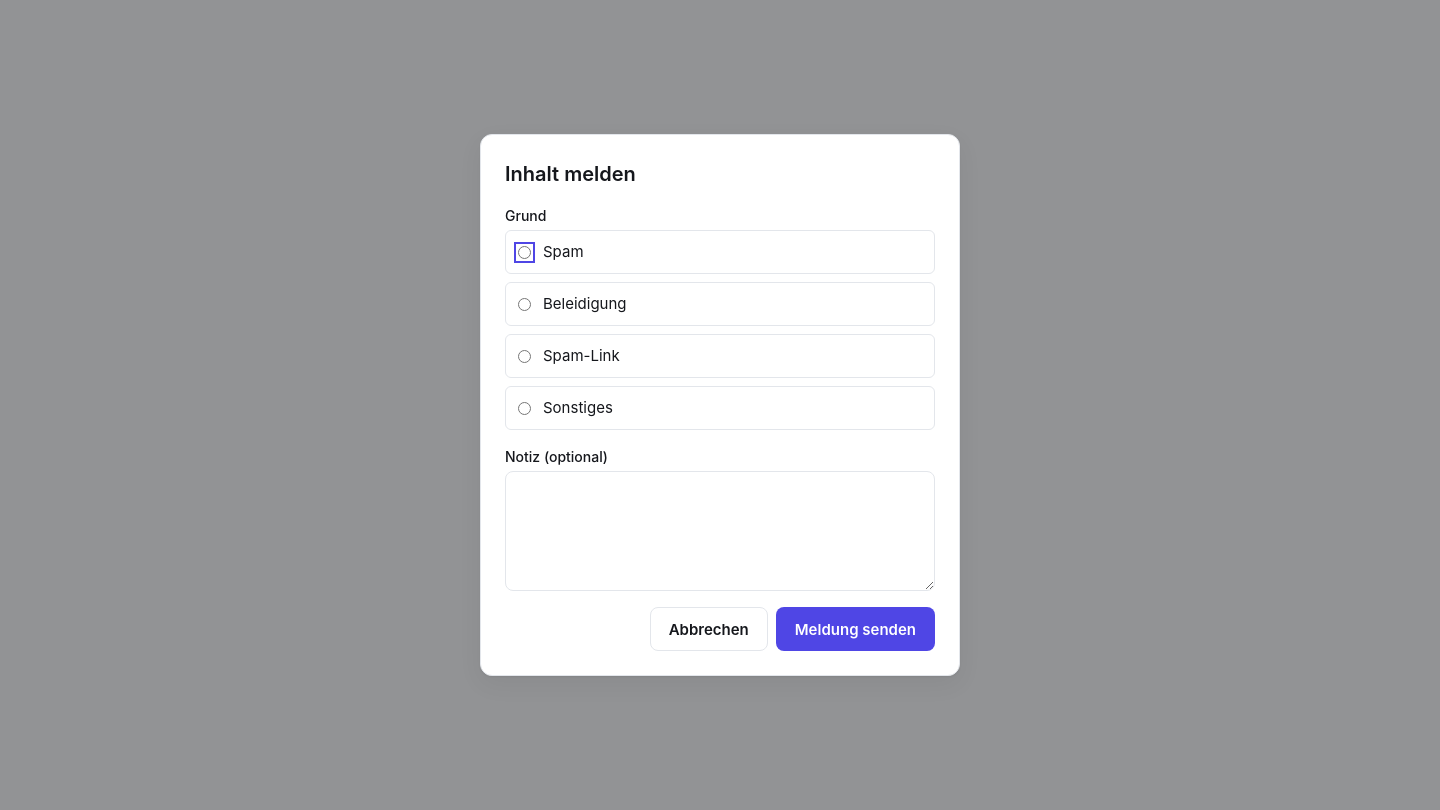
Test: ReportDialog › starts neutral and posts reason and optional note
Click the radio button labelled "Spam".
click(524, 252)  # box x1=518 y1=246 x2=531 y2=258
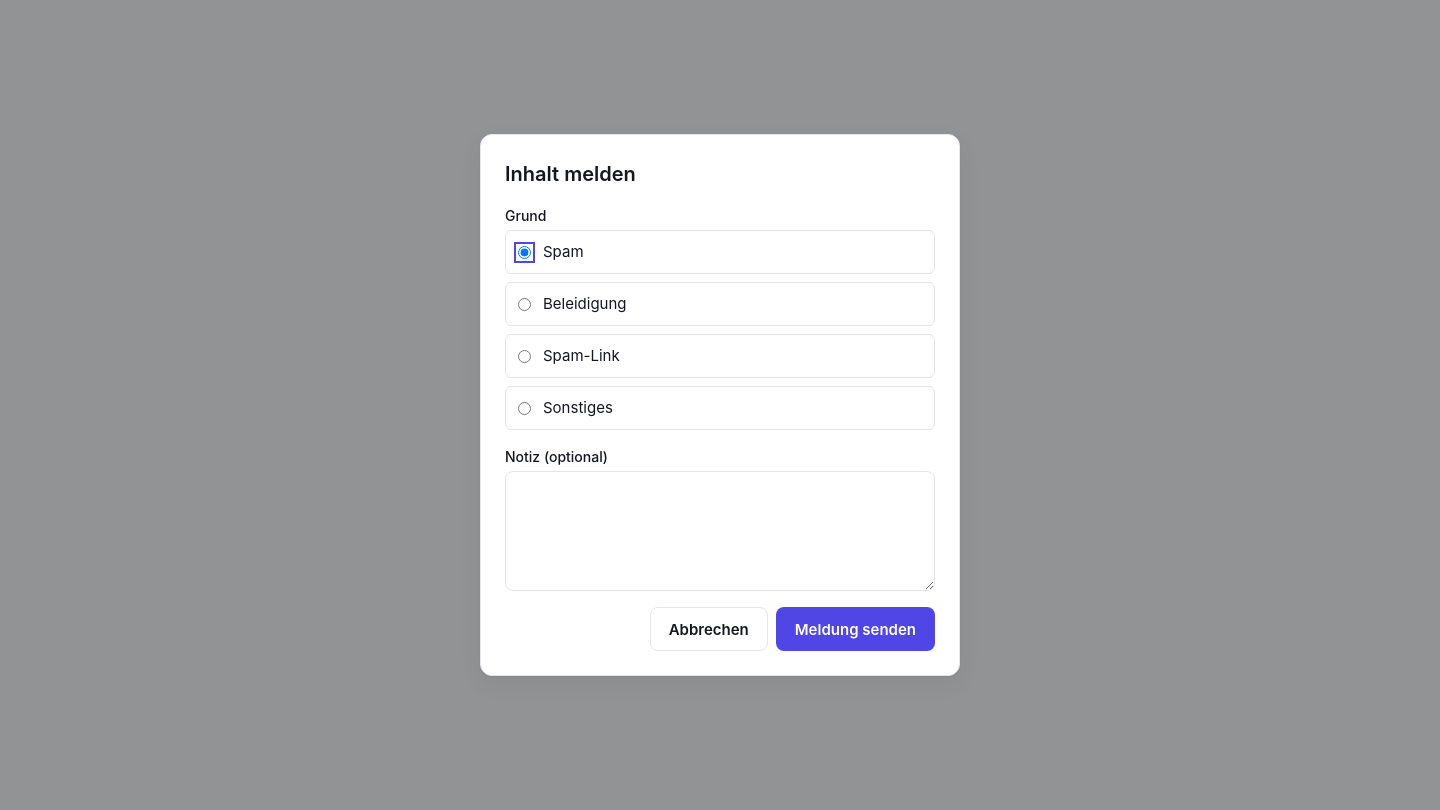
Type "Bitte prüfen" into the text box labelled "Notiz (optional)".
click(720, 531); type("Bitte prüfen")  # box x1=505 y1=471 x2=935 y2=591
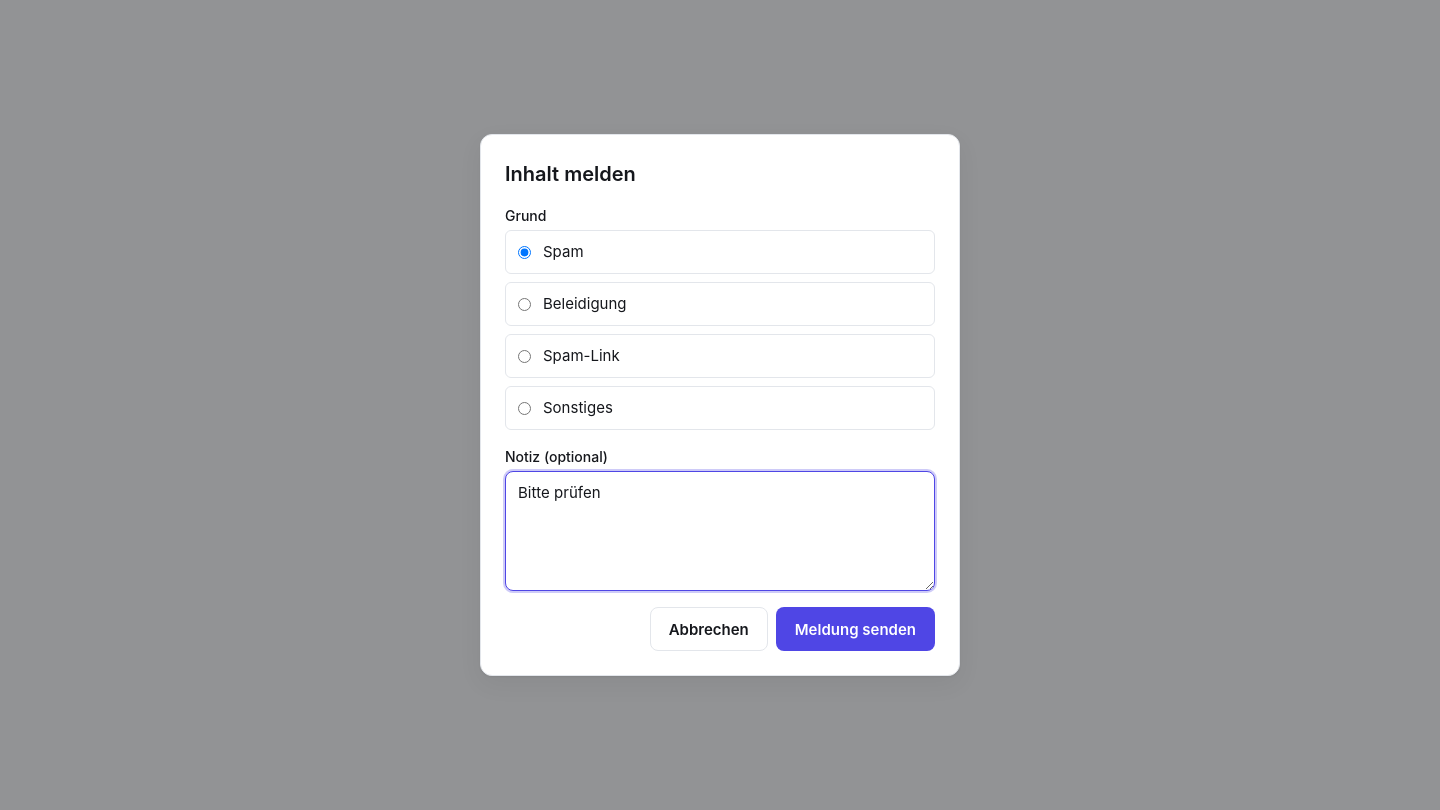
Click the button "Meldung senden".
click(855, 629)  # box x1=776 y1=607 x2=935 y2=651
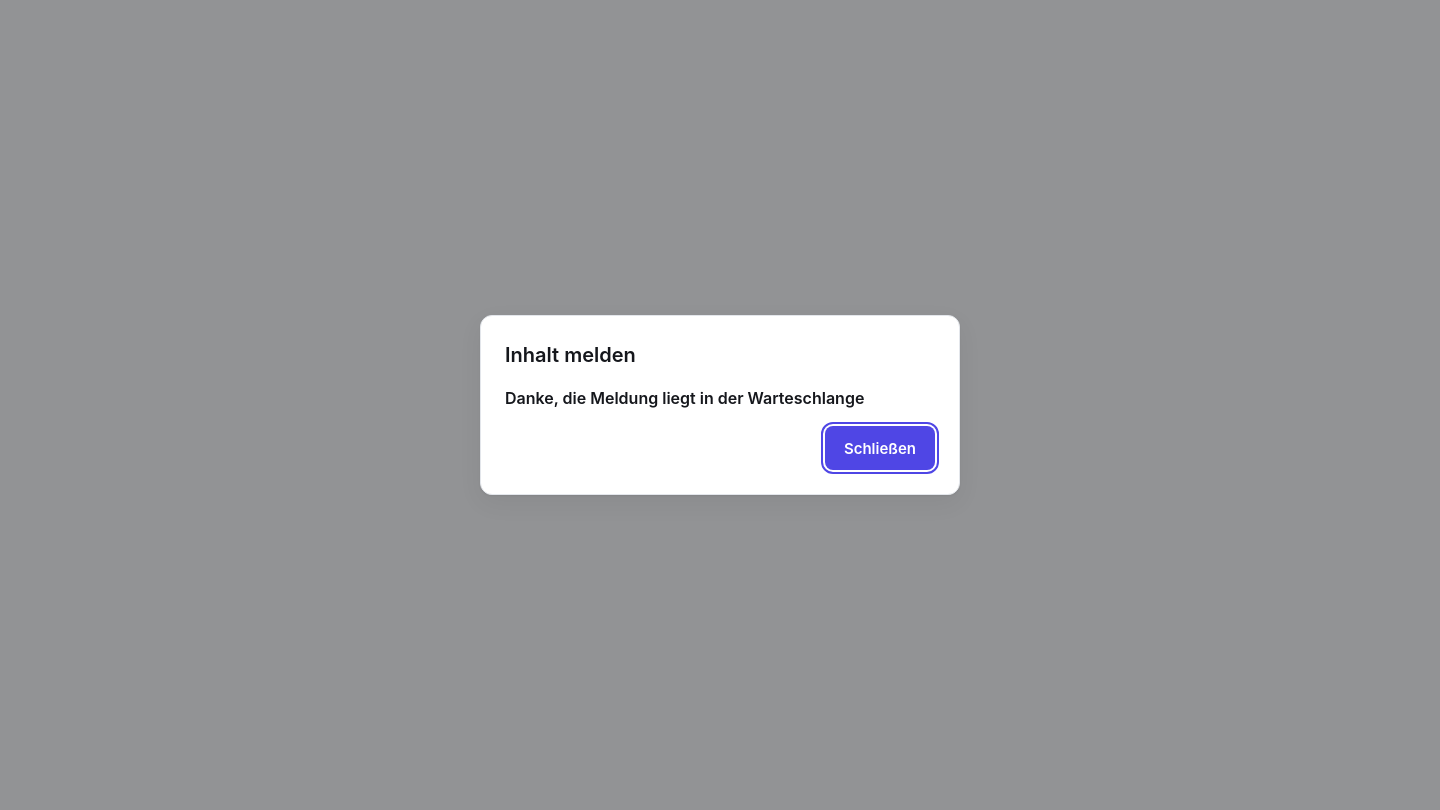
Expected: the text "Danke, die Meldung liegt in der Warteschlange" is shown, x1=505 y1=388 x2=864 y2=408
